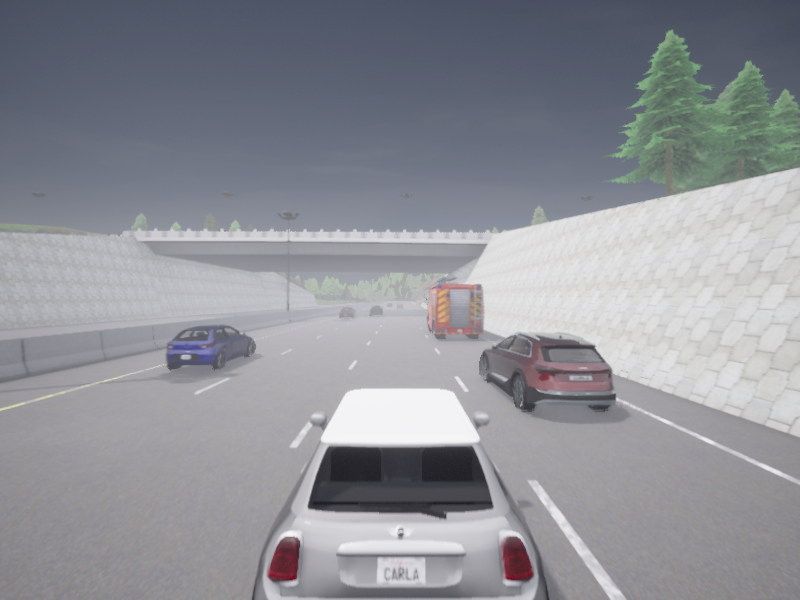vehicle: (252, 388, 548, 599), (479, 332, 615, 410), (166, 325, 254, 369), (423, 276, 483, 337), (339, 307, 355, 317), (370, 305, 383, 315), (397, 303, 402, 308), (387, 302, 392, 306)
